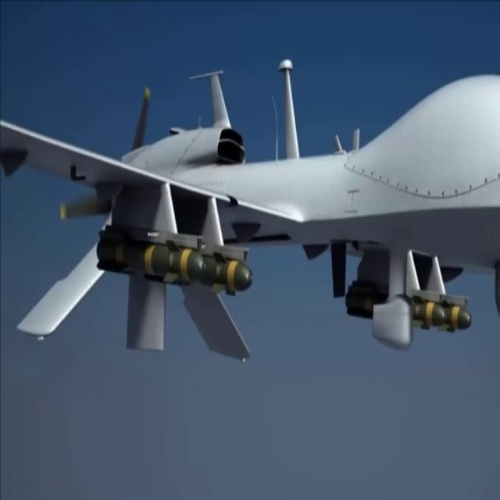uav: (2, 56, 500, 361)
